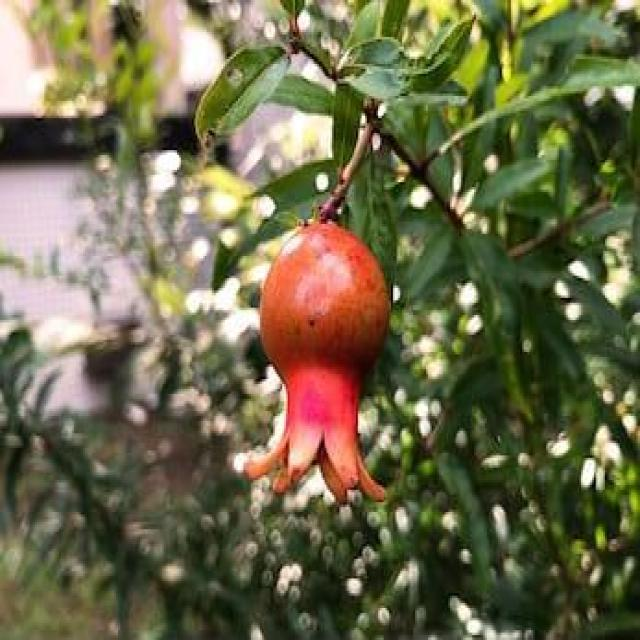Pomegranate: (242, 216, 392, 517)
